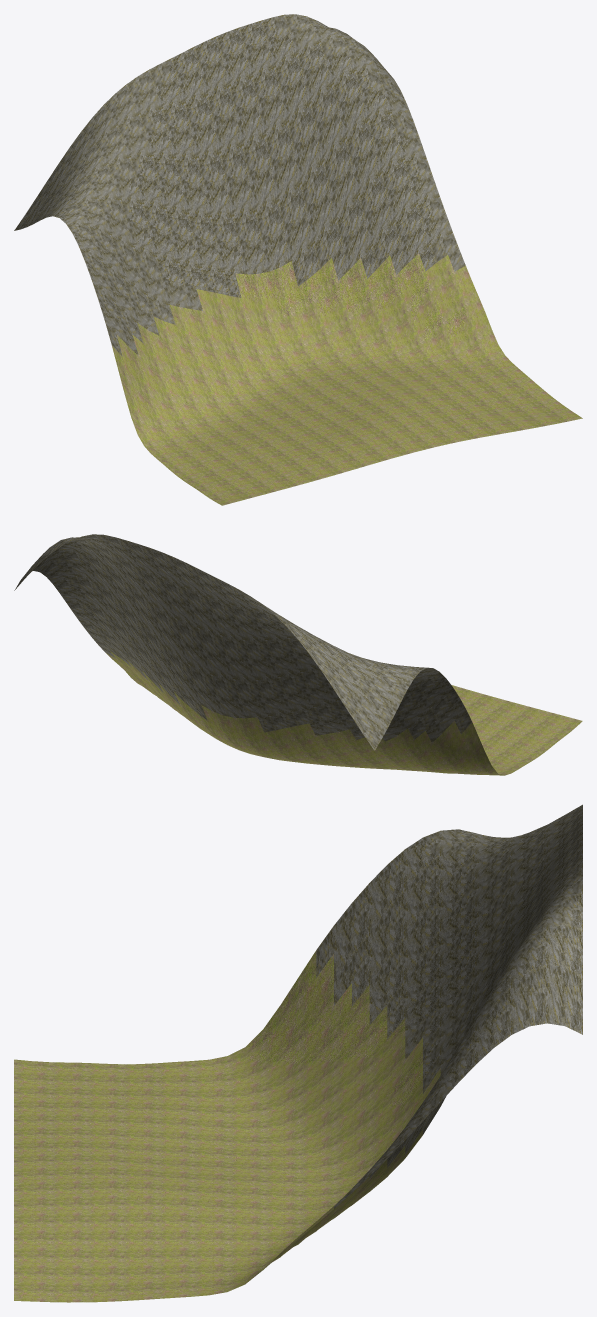
File: chunk_0_2.glb
3 renders of one model, top to bottom at view 1: azimuth 30°, elevation 25°; view 2: azimuth 150°, elevation 25°; view 3: azimuth 270°, elevation 25°, orthographic. The views are drawn at different scales.
Visible parts, largest first — view 1: chunk_0_2-col; view 2: chunk_0_2-col; view 3: chunk_0_2-col.
Boxes of the visible parts, bbox=[...] form: chunk_0_2-col: bbox=[14, 14, 582, 505]; chunk_0_2-col: bbox=[14, 534, 582, 775]; chunk_0_2-col: bbox=[14, 804, 582, 1302].
Bounding box in the file's own units: 64 × 46.85 × 64.
Materials: 2 (2 with a texture image).
